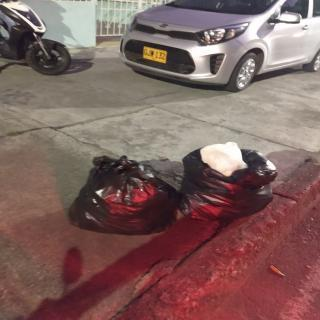Garbage: (64, 154, 178, 235), (178, 140, 285, 218)
